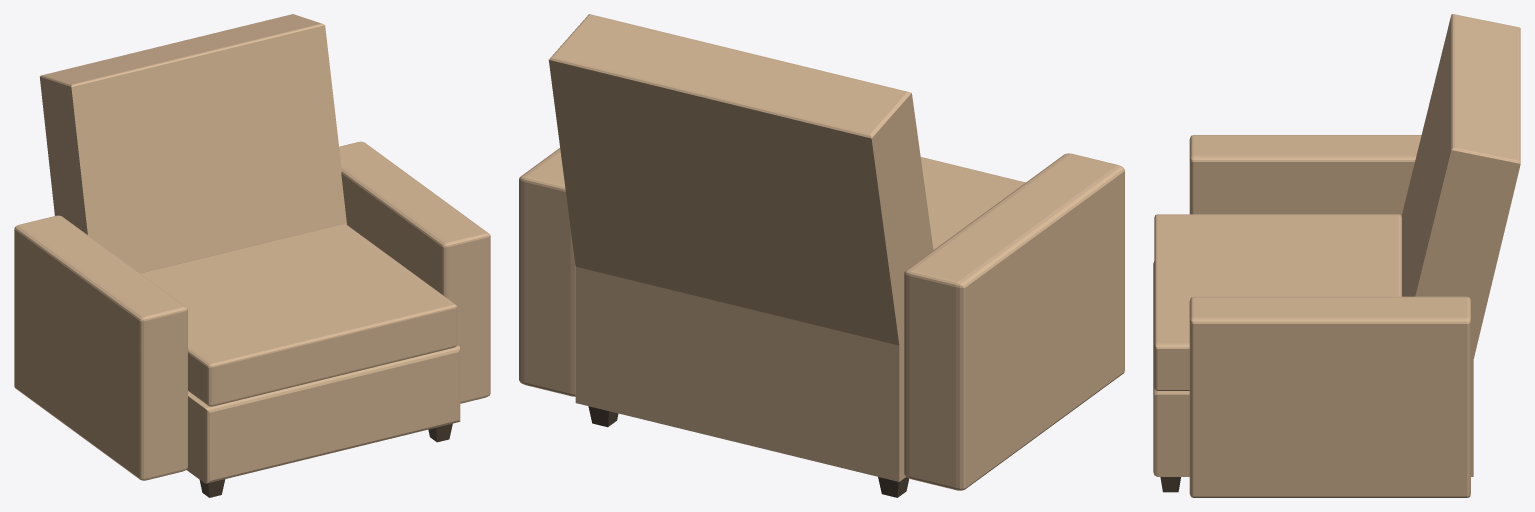
The model's file is Sessel.fbx.
3 renders of one model, left to right at view 1: azimuth 30°, elevation 25°; view 2: azimuth 150°, elevation 25°; view 3: azimuth 270°, elevation 25°, orthographic. The views are drawn at different scales.
Parts seen in each view (by area): view 1: Cube; view 2: Cube; view 3: Cube.
Part boxes in pixels (x1=…): Cube: x1=14, y1=14, x2=490, y2=497; Cube: x1=519, y1=14, x2=1124, y2=497; Cube: x1=1153, y1=14, x2=1520, y2=497.
Size of the model in its own units: 118 by 102 by 97.73.
